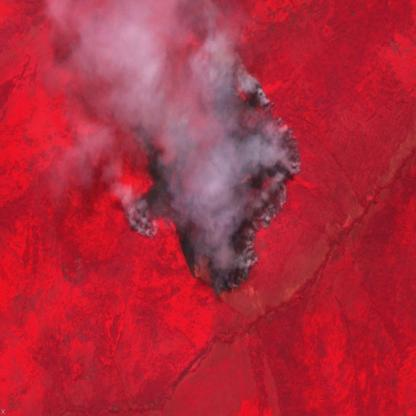fire: (123, 68, 307, 306)
